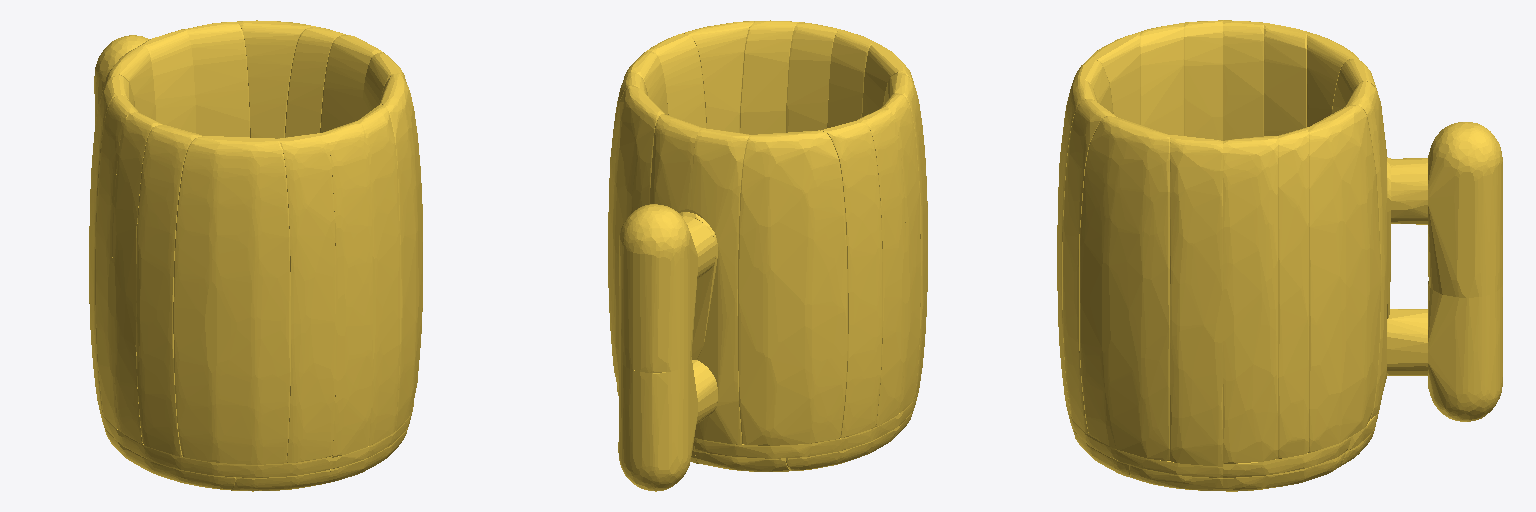
URDF robot description (82.urdf):
<?xml version="1.0" ?>
<robot name="82.urdf">
	<link name="baseLink">
		<inertial>
			<origin rpy="0 0 0" xyz="0 0 0"/>
				<mass value="0.1"/>
				<inertia ixx="6e-5" ixy="0" ixz="0" iyy="6e-5" iyz="0" izz="6e-5"/>
		</inertial>
		<visual>
			<origin rpy="0 0 0" xyz="0 0 0"/>
			<geometry>
				<mesh filename="48_decom_wt.obj" scale="0.88 0.88 0.96"/>
			</geometry>
			<material name="yellow">
				<color rgba="0.98 0.84 0.35 1"/>
			</material>
		</visual>
		<collision>
			<origin rpy="0 0 0" xyz="0 0 0"/>
			<geometry>
				<mesh filename="48_decom_wt.obj" scale="0.88 0.88 0.96"/>
			</geometry>
		</collision>
	</link>
</robot>

--- Render facts (derived) ---
3 views of the same robot in one strip: view 1: azimuth 30°, elevation 25°; view 2: azimuth 150°, elevation 25°; view 3: azimuth 270°, elevation 25° (orthographic).
Robot: 82.urdf — 1 links, 0 joints (none); root link baseLink; default pose: every joint at zero.
Links seen in each view (by area): view 1: baseLink; view 2: baseLink; view 3: baseLink.
Boxes of the visible links, x1,y1,x2,y2 form: baseLink: (89,20,422,491); baseLink: (608,20,927,491); baseLink: (1057,20,1502,491).
Bounding box of the posed robot: 0.0968 × 0.1296 × 0.1127 m (x, y, z).
Meshes: 1 distinct files referenced, 1 mesh visuals loaded (1 OBJ).